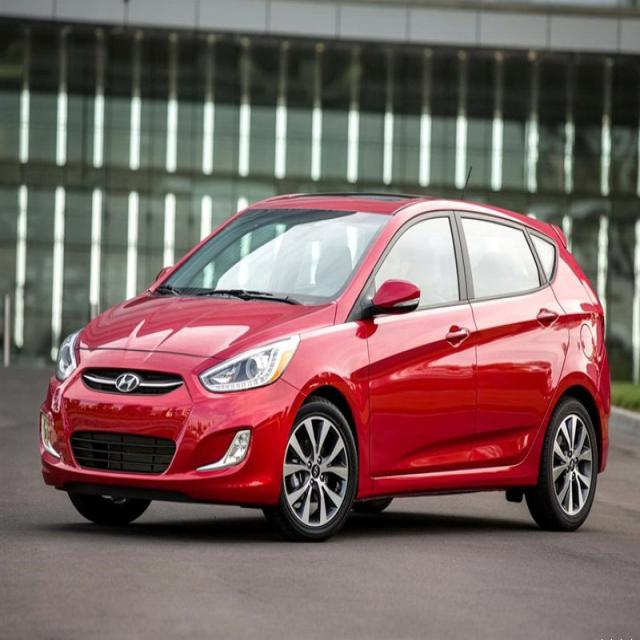door: (451, 211, 570, 476)
front_bumper: (42, 372, 304, 502)
front_glass: (164, 208, 394, 309)
front_left_side_door: (359, 208, 482, 480)
front_left_side_mirror: (371, 278, 422, 326)
front_right_side_light: (55, 326, 81, 384)
wheel: (277, 401, 360, 537), (528, 398, 598, 528)
